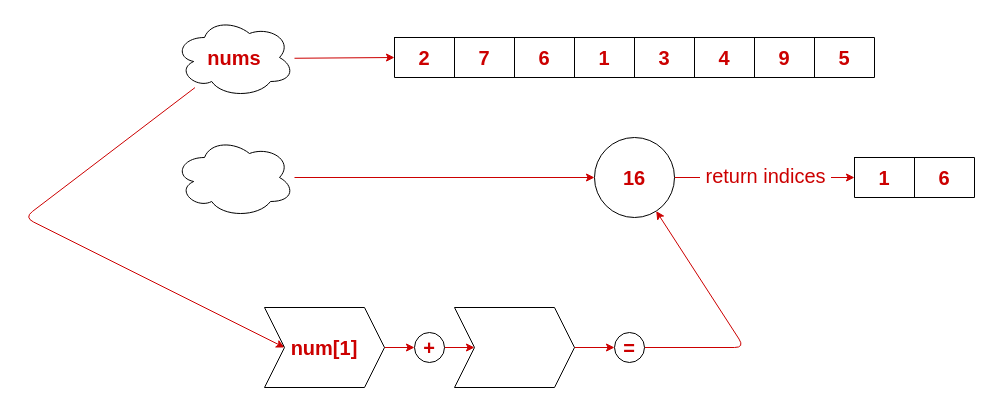
Image size: 992x405. Some labels were removed from this diagram. The shapes that lost their labels are listed below. From the top down, each one's centre as x and y in pixels, then its label:
At pixel 234 177: "target".
At pixel 514 347: "num[6]".
